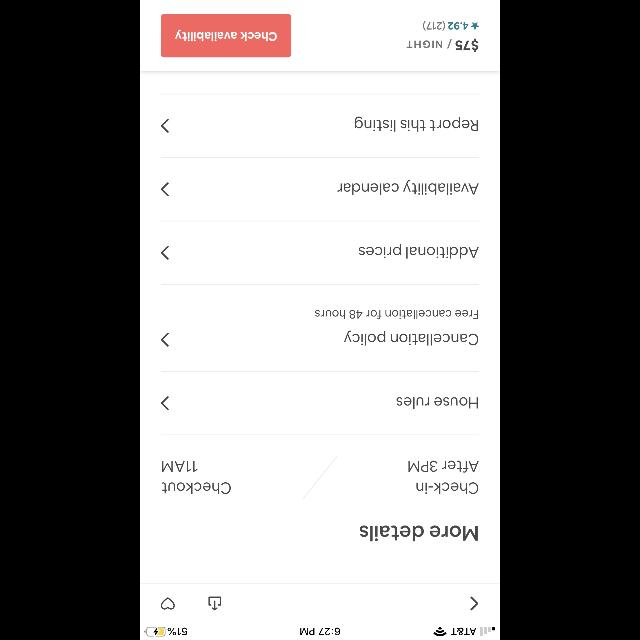icon: (208, 596, 222, 610), (161, 597, 175, 609), (161, 119, 169, 133), (161, 182, 169, 196), (160, 246, 168, 260), (161, 333, 169, 347), (161, 396, 169, 410), (470, 596, 478, 610), (472, 22, 478, 30)
text: (338, 180, 478, 196), (344, 330, 478, 346), (355, 116, 477, 132), (360, 525, 478, 541), (359, 244, 479, 258), (314, 310, 478, 318), (407, 38, 478, 52), (397, 397, 478, 409), (162, 482, 230, 494), (408, 462, 478, 472), (416, 482, 478, 493), (162, 461, 198, 472), (423, 21, 445, 31), (448, 22, 468, 30)
textbutton: (161, 15, 291, 58)
uppertaskbar: (140, 626, 500, 640)
